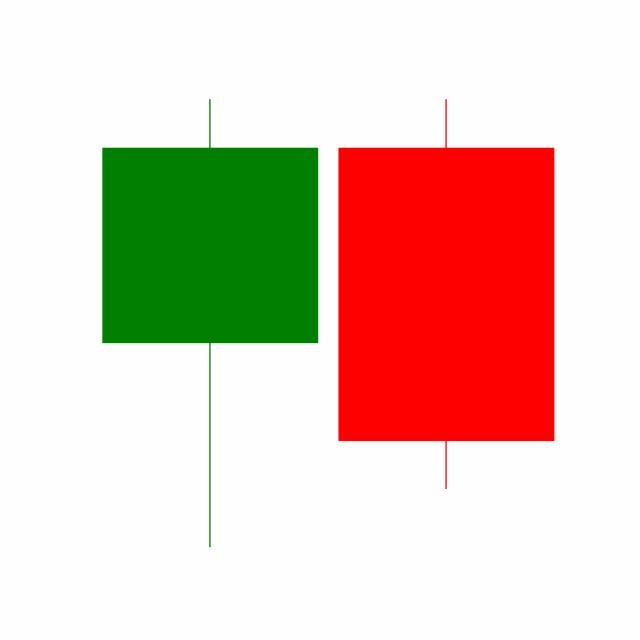Marubozu: (328, 95, 566, 494)
